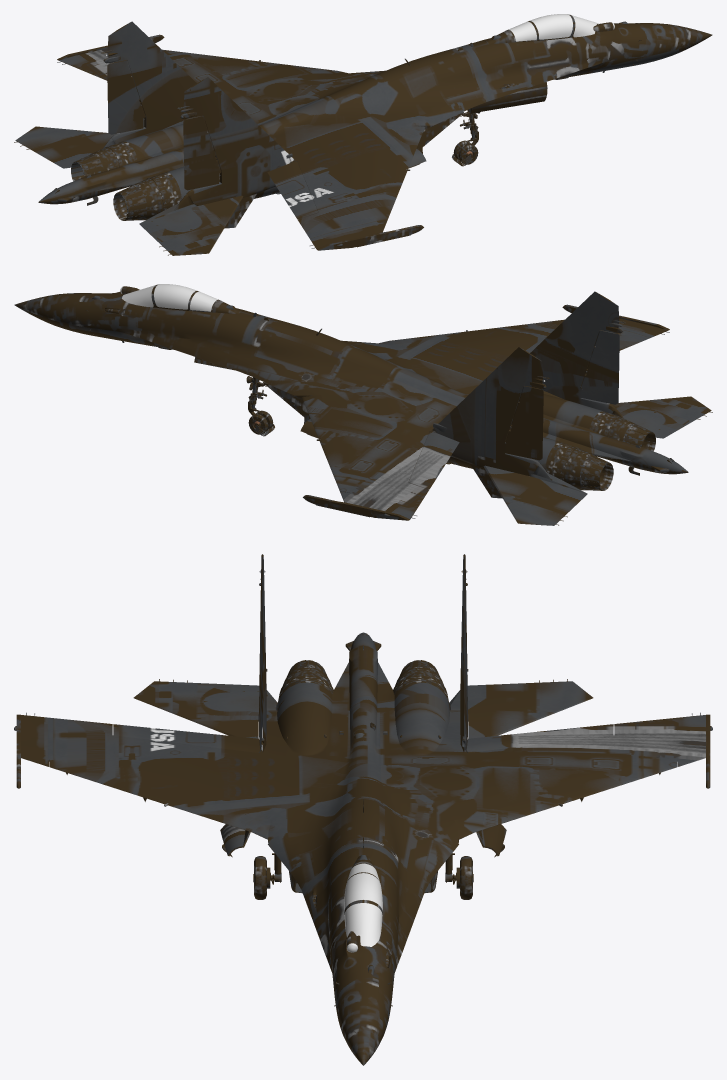
The picture shows the model from 3 angles, top to bottom: view 1: azimuth 30°, elevation 25°; view 2: azimuth 150°, elevation 25°; view 3: azimuth 270°, elevation 25°; orthographic projection. The views are drawn at different scales.
Visible parts, largest first — view 1: SU-35-airframe, SU-35-landingOn, SU-35canopy; view 2: SU-35-airframe, SU-35canopy, SU-35-landingOn; view 3: SU-35-airframe, SU-35-landingOn, SU-35canopy.
Part boxes in pixels (<box>): SU-35-airframe: <box>14,14,712,255</box>; SU-35-landingOn: <box>408,82,547,168</box>; SU-35canopy: <box>509,14,599,41</box>; SU-35-airframe: <box>14,284,712,525</box>; SU-35canopy: <box>122,284,217,311</box>; SU-35-landingOn: <box>194,357,318,438</box>; SU-35-airframe: <box>14,554,712,1065</box>; SU-35-landingOn: <box>220,824,506,899</box>; SU-35canopy: <box>344,863,382,946</box>.
Size of the model in its own units: 21876 by 6144 by 14785.
